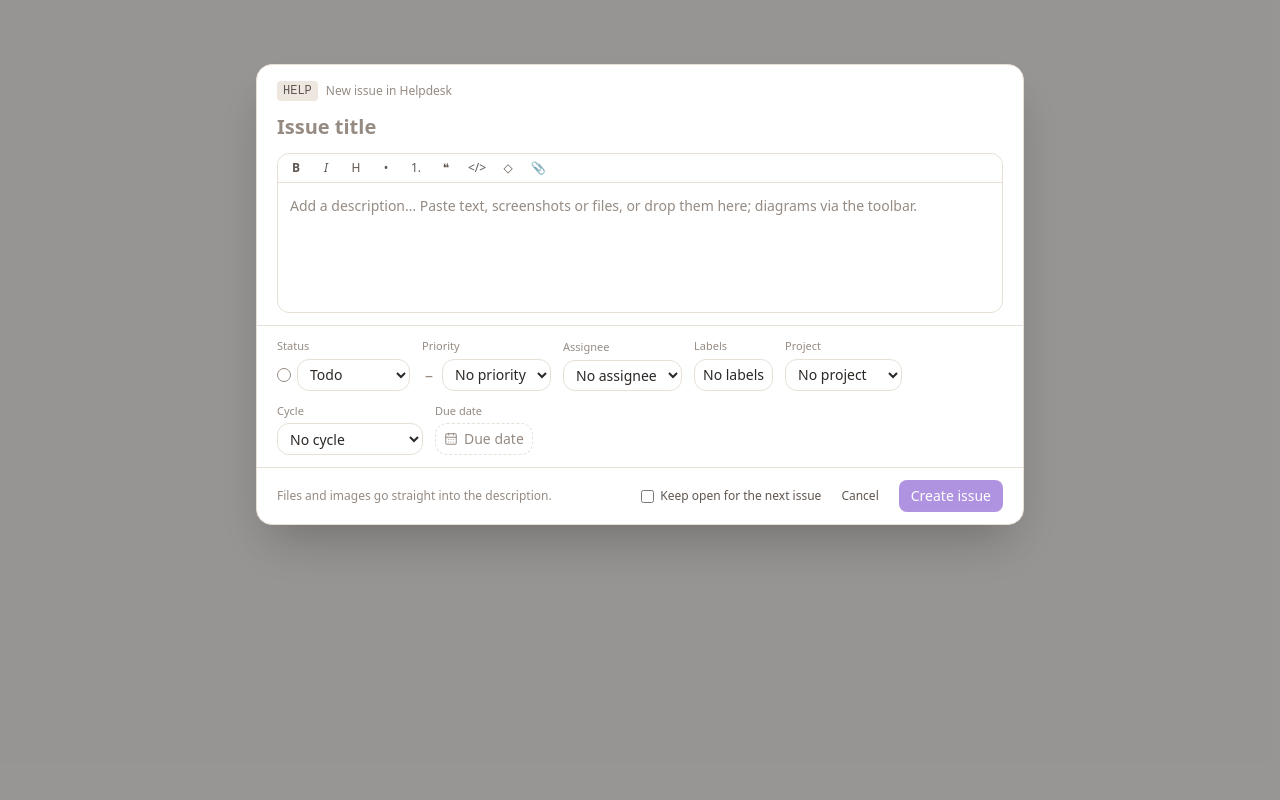
Test: NewIssueDialog › keeps the dialog open with "Create more" and submits on Ctrl+Enter
The image size is (1280, 800).
Click the checkbox labelled "Keep open for the next issue" at (648, 496), box [641, 490, 654, 502]
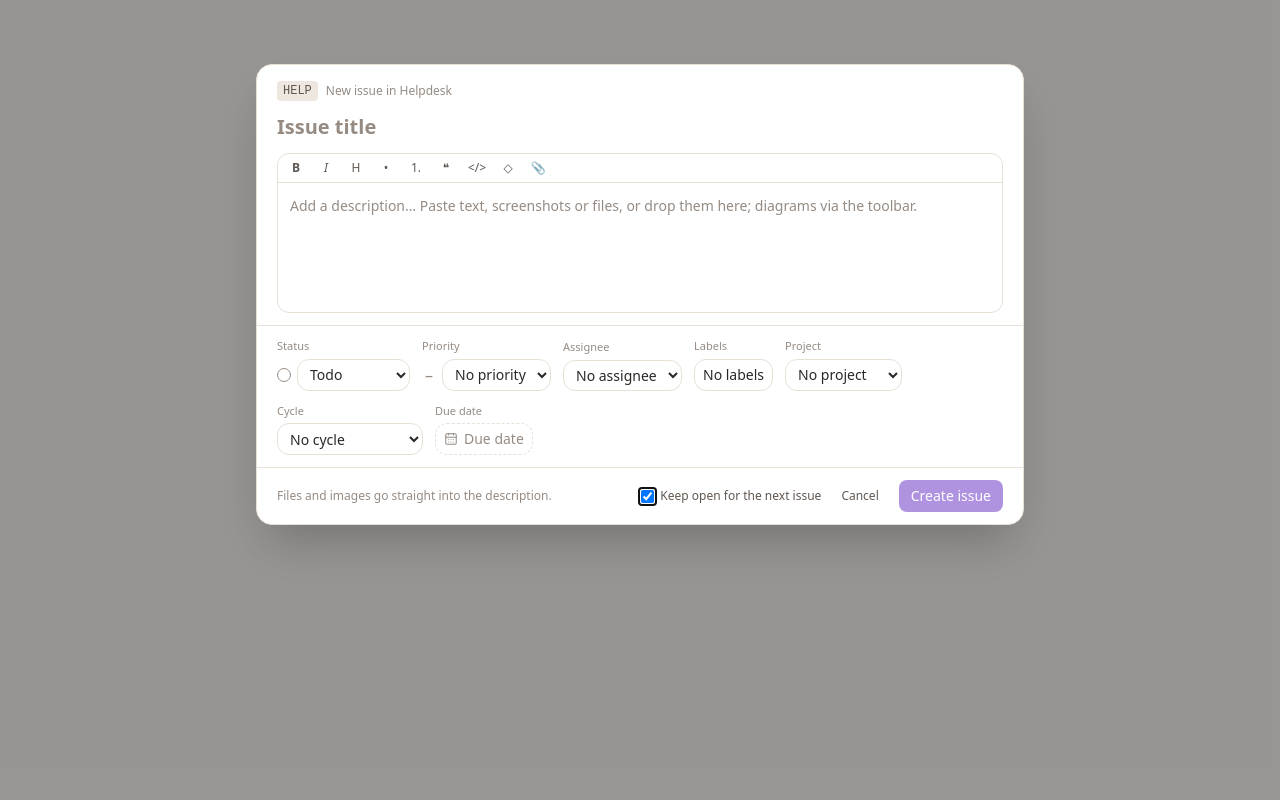
Type "First" into the field labelled "Issue title" at (640, 127), box [277, 113, 1003, 141]
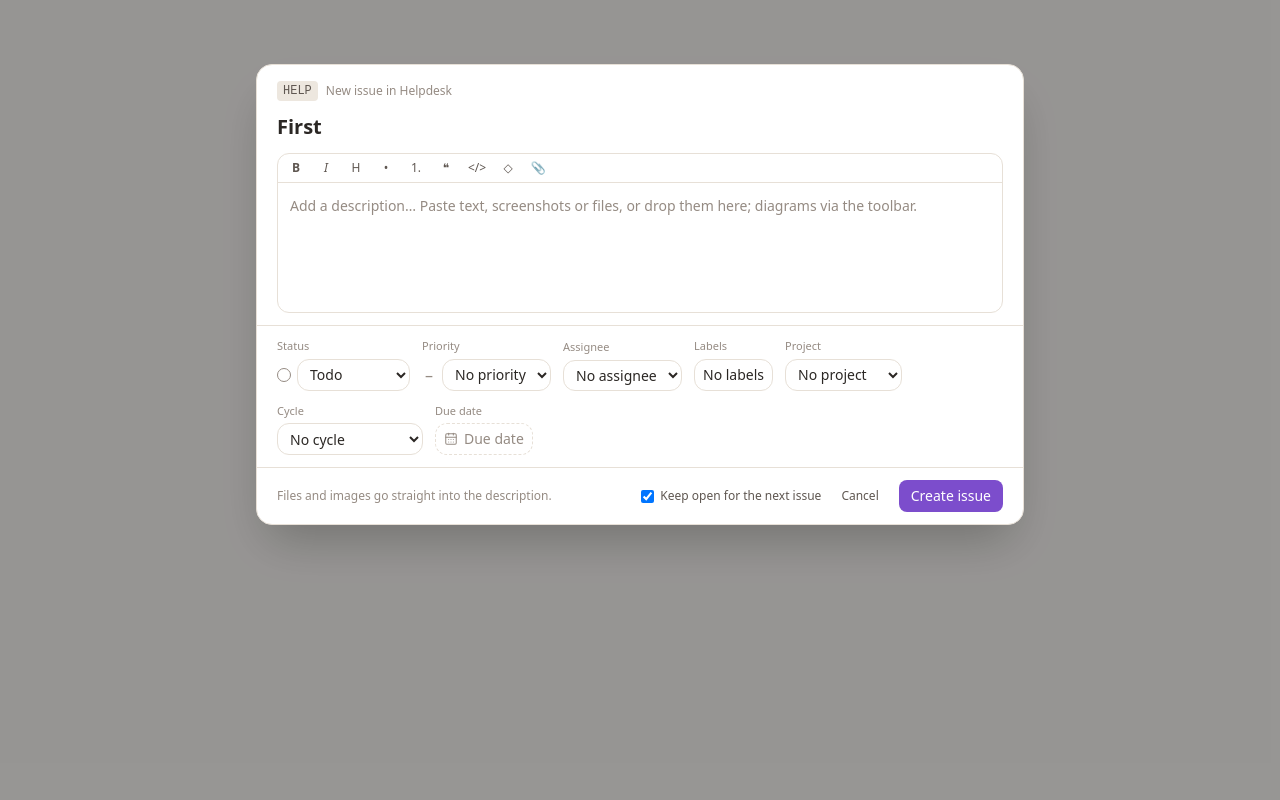
Type keys "{Control>}{Enter}{/Control}"
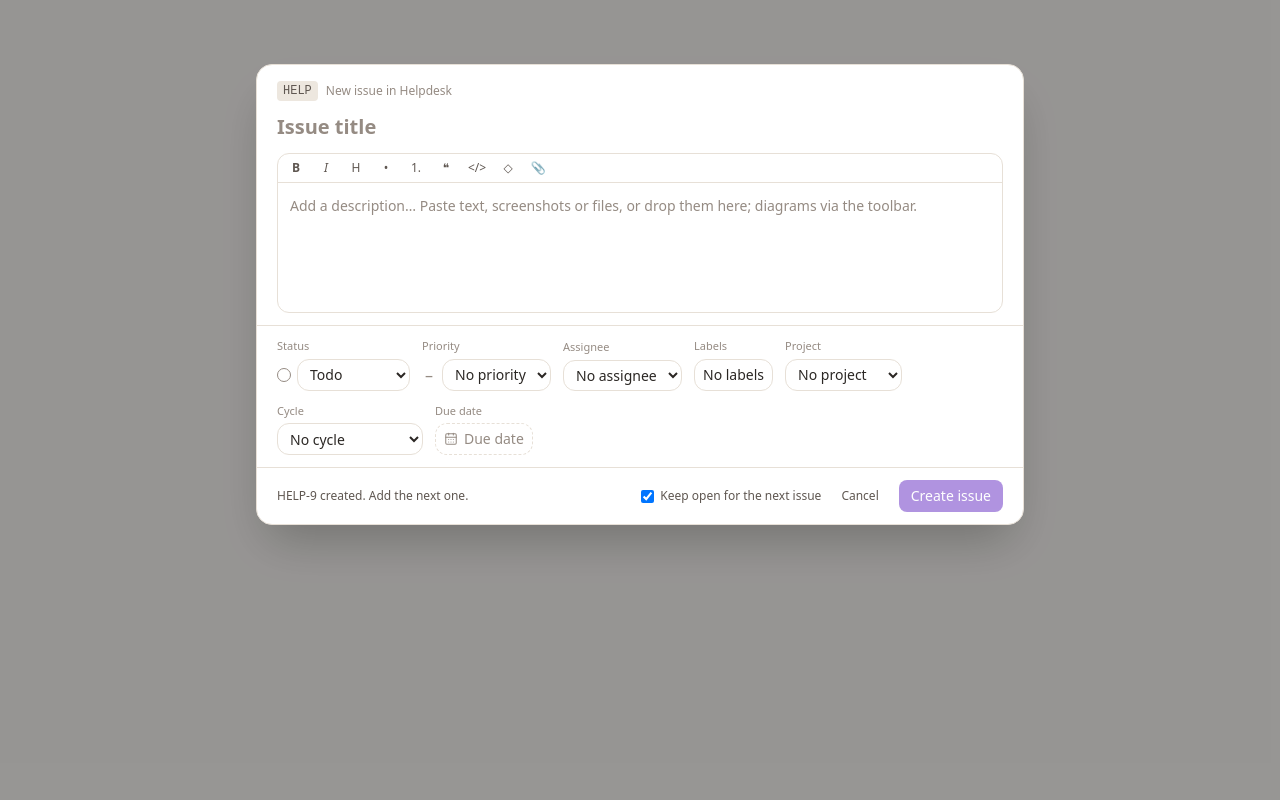
Expected: the field labelled "Issue title" is empty, [277, 113, 1003, 141]
Expected: the message reads "HELP-9 created. Add the next one.", [277, 487, 468, 504]
Expected: the button "Create issue" is disabled, [899, 480, 1003, 512]
